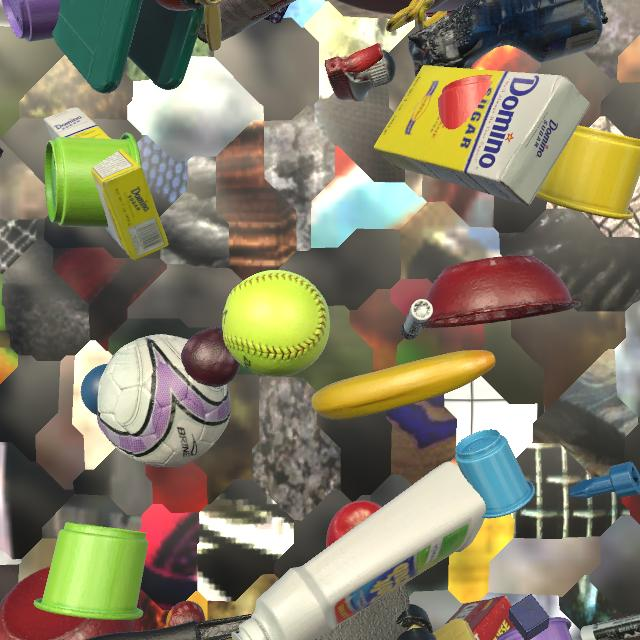ycb_003_cracker_box: (445, 596, 515, 640)
ycb_004_sugar_box: (374, 65, 590, 206), (43, 107, 169, 262)
ycb_005_tomato_soup_can: (197, 0, 296, 44)
ycb_011_banana: (312, 350, 495, 420)
ycb_013_apple: (326, 501, 382, 548)
ycb_018_plum: (181, 327, 241, 387)
